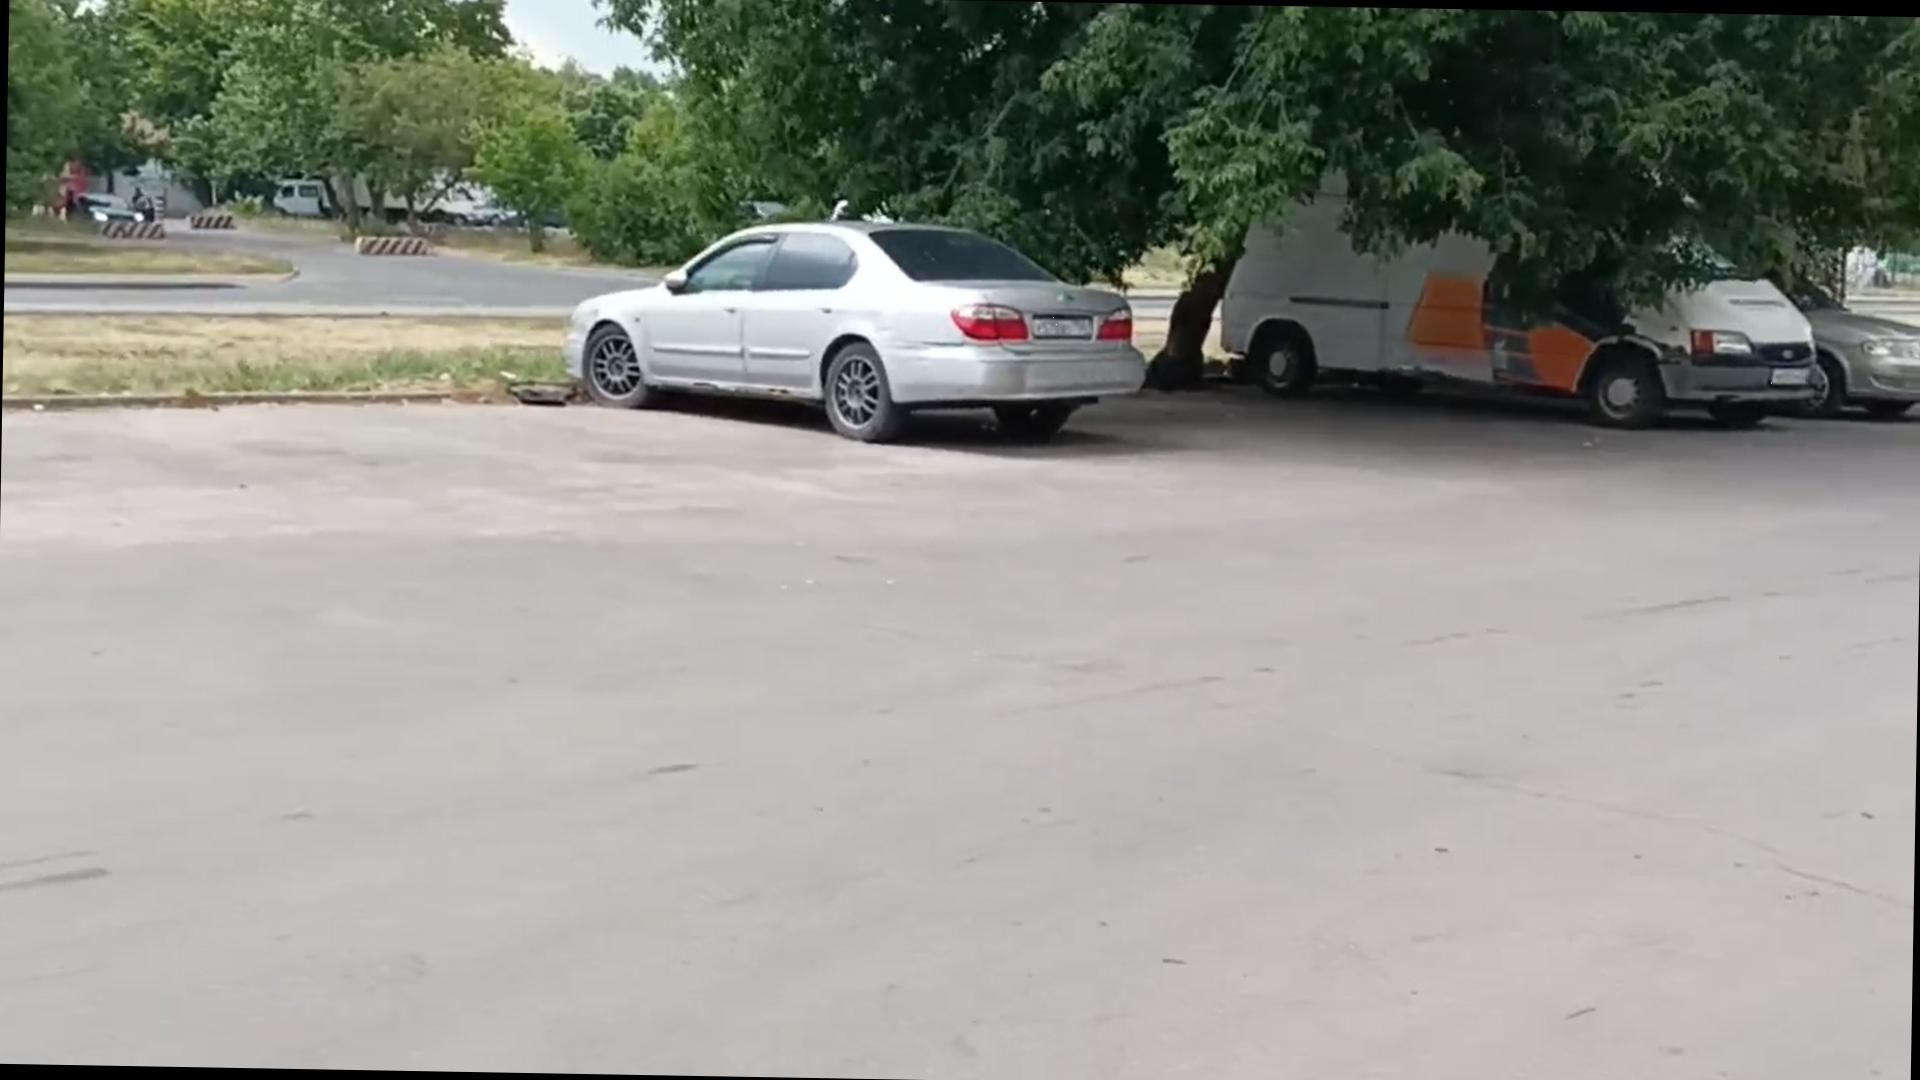plate: (1031, 316, 1092, 338), (1765, 368, 1809, 389)
